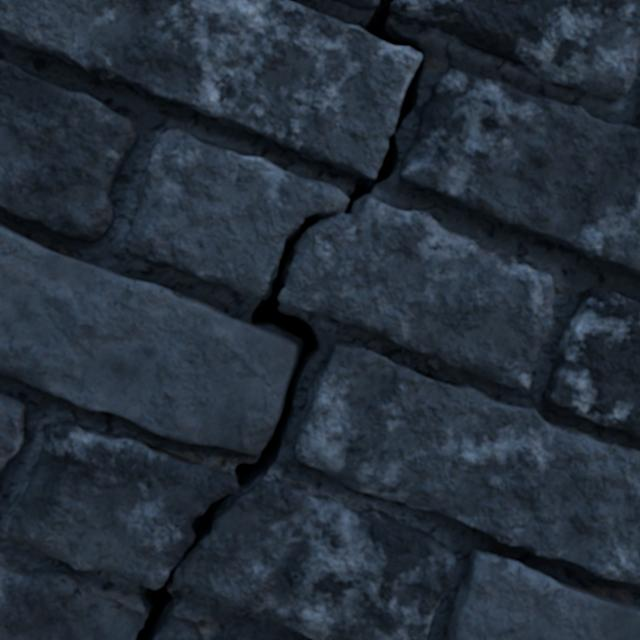broken_brick: (278, 194, 554, 388), (174, 479, 455, 639), (7, 422, 238, 588), (124, 129, 348, 297), (389, 0, 639, 101), (0, 561, 147, 639), (153, 611, 203, 639), (333, 0, 378, 9)
crack: (0, 0, 423, 639), (295, 341, 639, 585), (400, 69, 639, 277), (0, 60, 138, 243), (445, 549, 639, 639), (542, 288, 639, 437), (0, 389, 26, 476), (228, 633, 264, 639), (432, 347, 441, 356), (635, 100, 639, 118), (325, 308, 334, 316), (182, 462, 194, 467), (378, 331, 386, 336), (408, 339, 413, 345)
